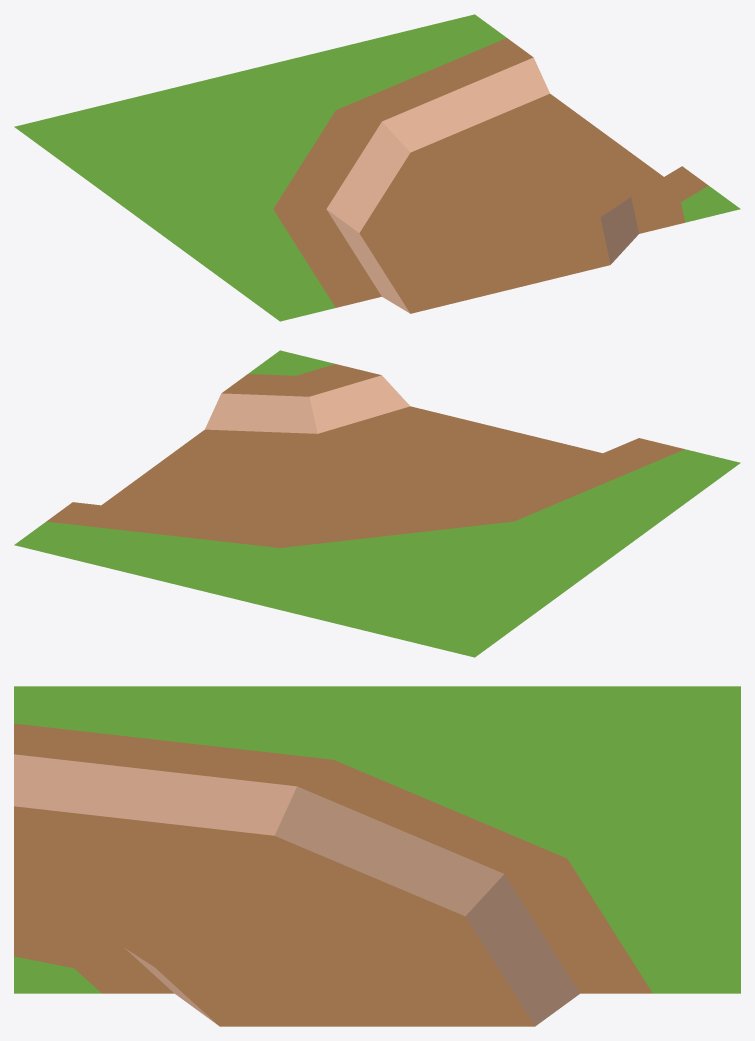
File: ground_pathBend.glb
The picture shows the model from 3 angles, top to bottom: view 1: azimuth 30°, elevation 25°; view 2: azimuth 150°, elevation 25°; view 3: azimuth 270°, elevation 25°; orthographic projection. The views are drawn at different scales.
Parts seen in each view (by area): view 1: ground_pathBend; view 2: ground_pathBend; view 3: ground_pathBend.
Boxes of the visible parts, box(x1,y1,x2,y2) form: ground_pathBend: box(14, 14, 740, 321); ground_pathBend: box(14, 350, 740, 657); ground_pathBend: box(14, 686, 740, 1026).
Size of the model in its own units: 1 by 0.05 by 1.
